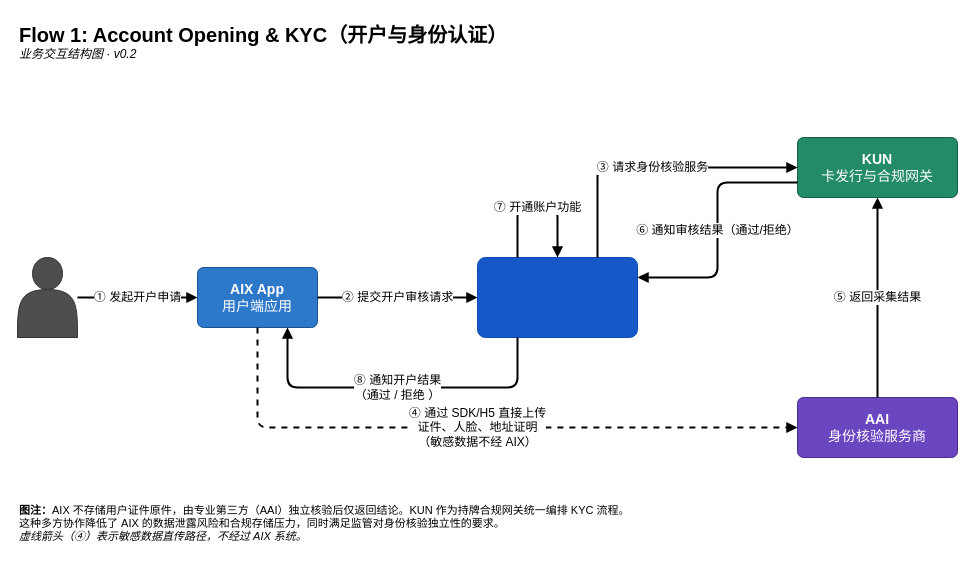
Some shapes in this 975 by 584 pixel diagram are drawn without their labels. The centre of each missing label's shape, as x and y in pixels:
AIX Platform 核心账本与风控系统: (557,297)
Customer 用户: (47,297)
